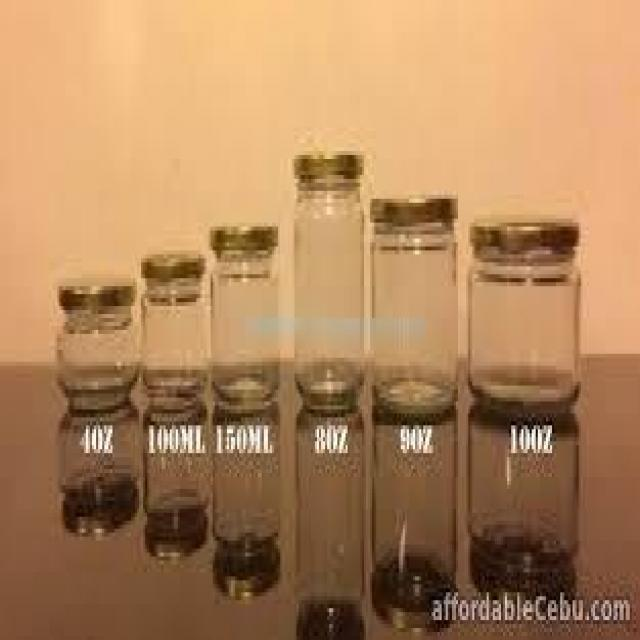non-organic waste: (464, 211, 587, 413), (292, 147, 368, 406)
